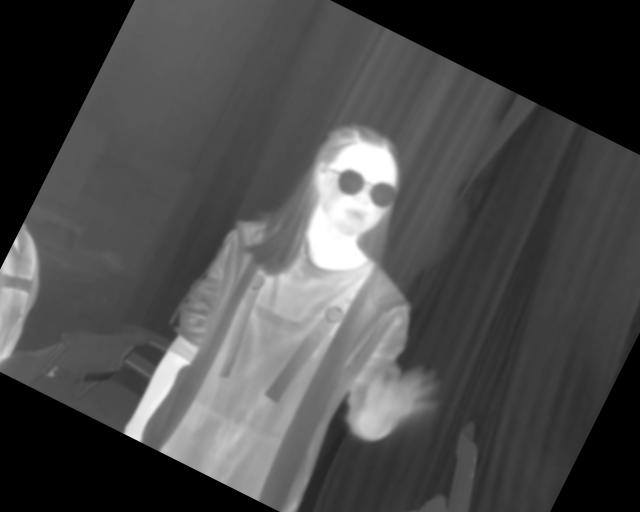face: (292, 113, 419, 250)
